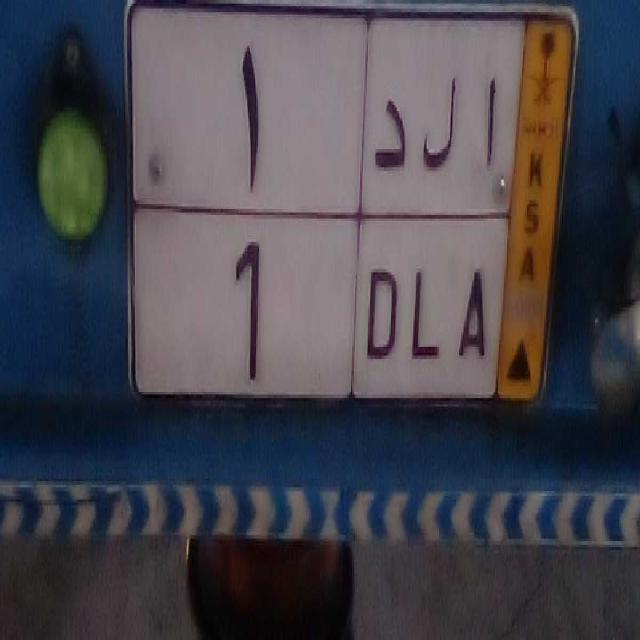license_plate: (130, 199, 504, 389)
